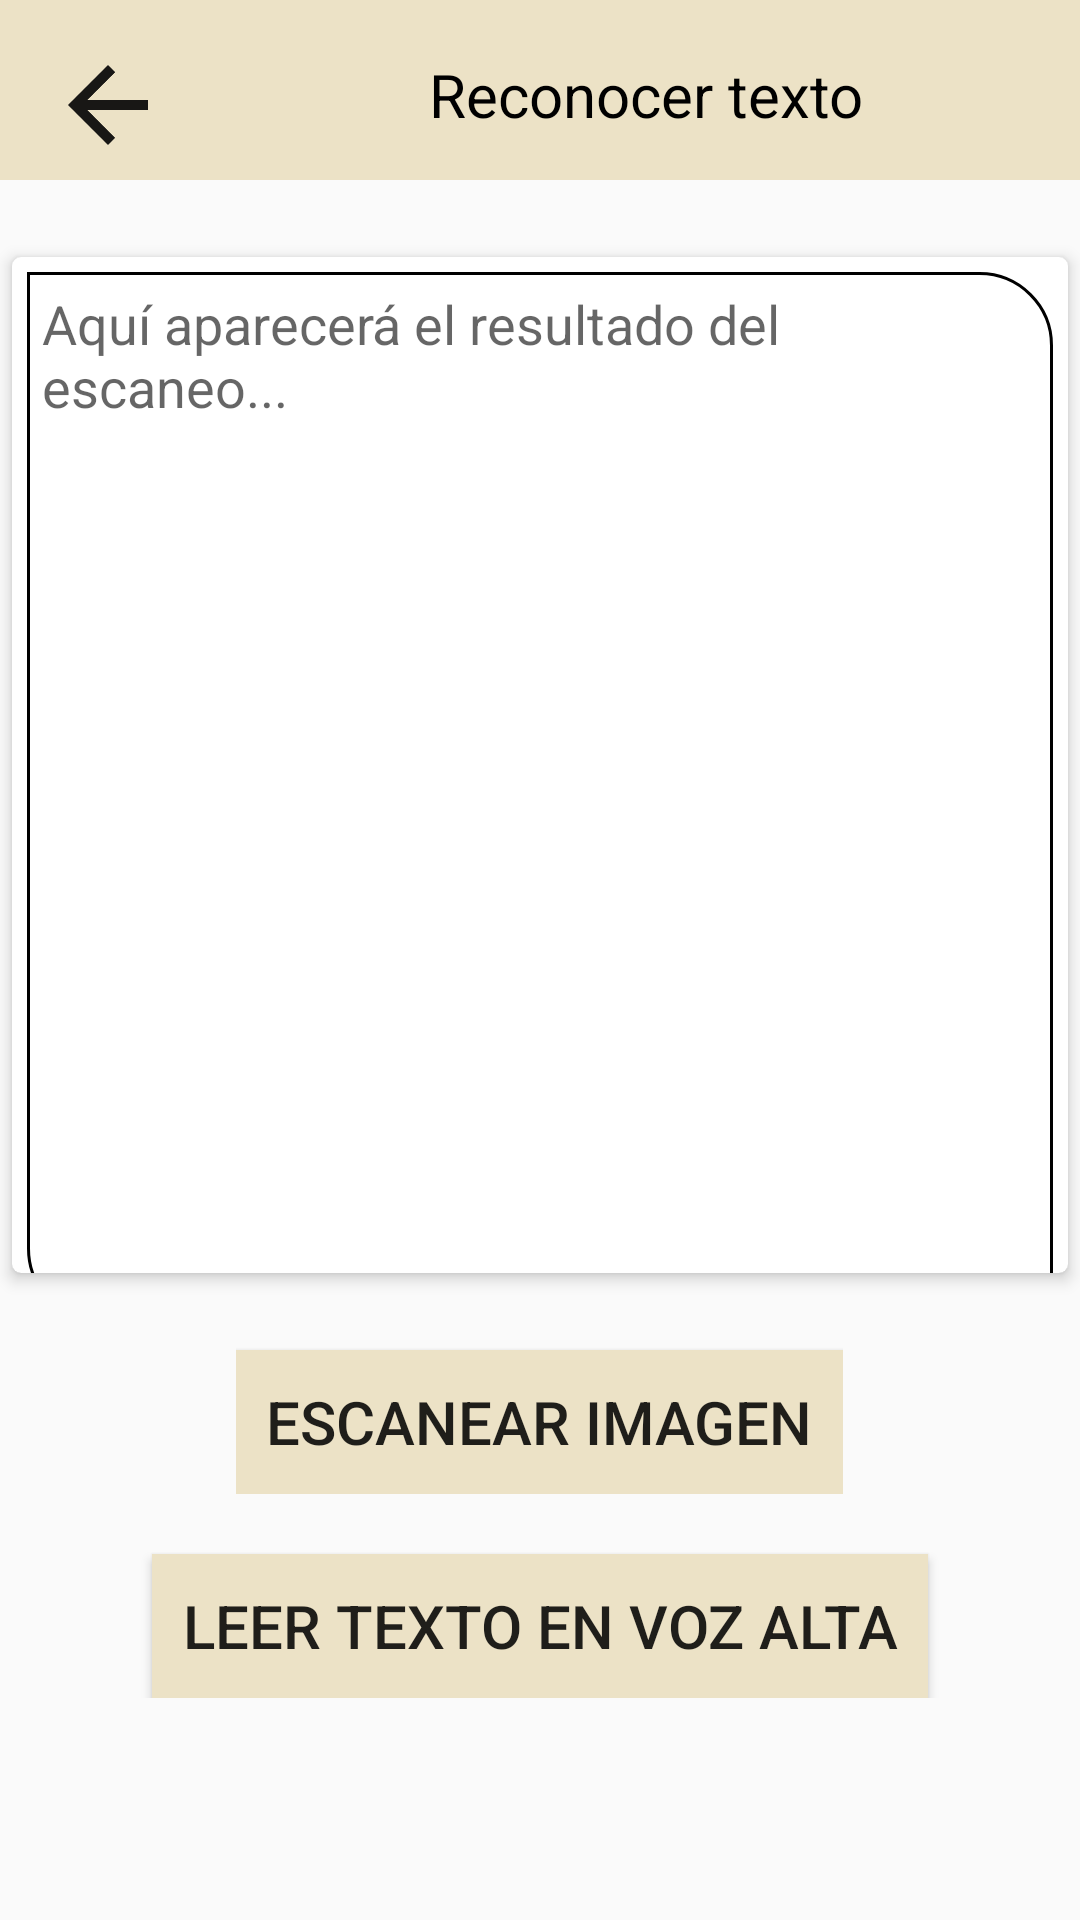

Named icons in this screenshot (1080px×1920px) and their bounding boxes, (x1, y1, x2, y2):
arrow back: (68, 65, 148, 145)
